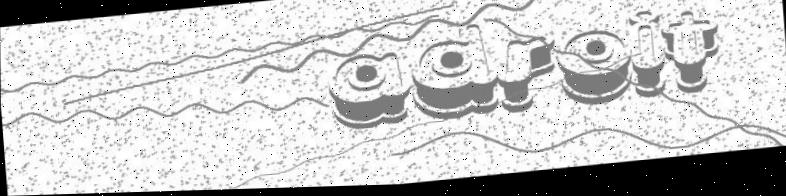a: (325, 52, 410, 135)
d: (406, 24, 499, 129)
i: (626, 13, 667, 104)
o: (554, 31, 634, 114)
r: (493, 37, 560, 119)
t: (659, 11, 725, 101)
